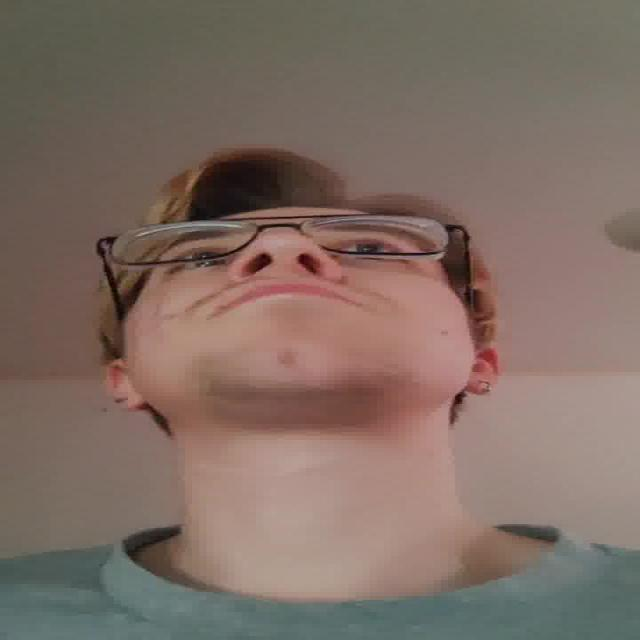earlobe: (456, 339, 506, 395), (103, 360, 149, 412)
